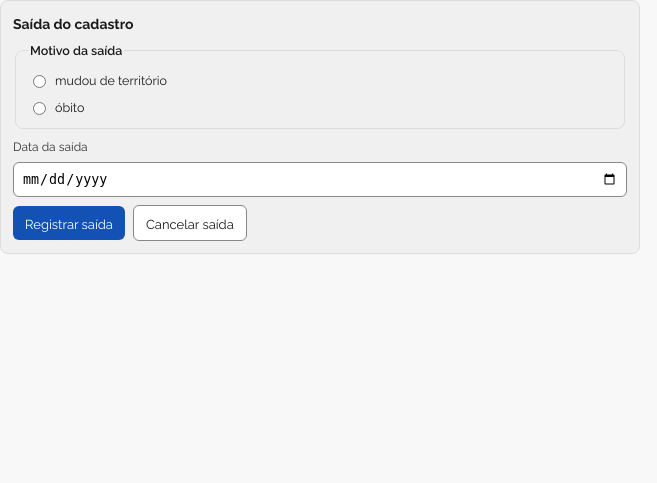
Test: ExitForm › óbito antes do nascimento é recusado na tela
Click the radio button labelled "óbito" at (40, 108), box [33,102,46,115]
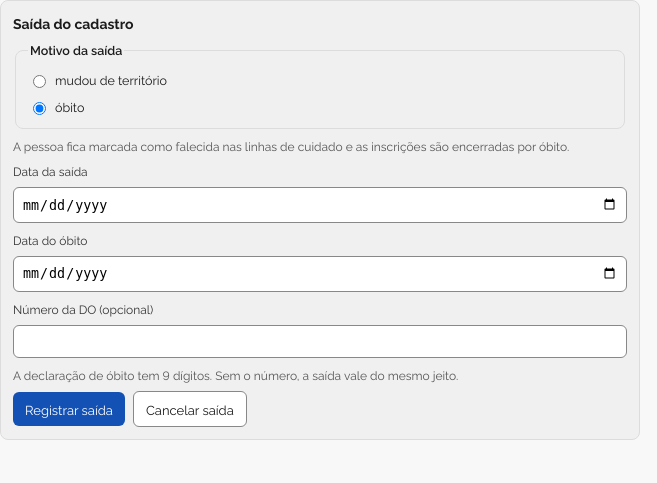
Type "2026-10-20" into the date field labelled "Data da saída" at (320, 205), box [13,188,627,223]
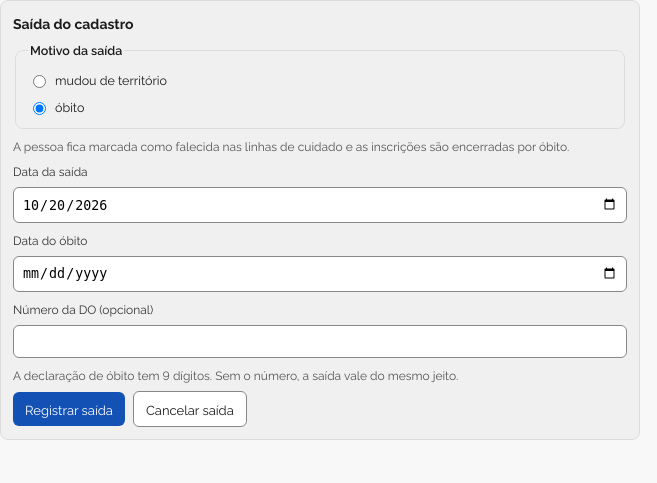
Type "1960-01-01" into the date field labelled "Data do óbito" at (320, 274), box [13,256,627,292]
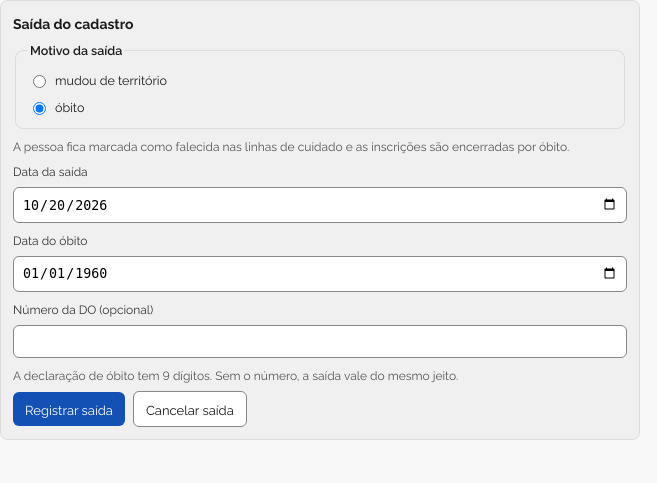
Click the button "Registrar saída" at (69, 409), box [13,392,125,426]
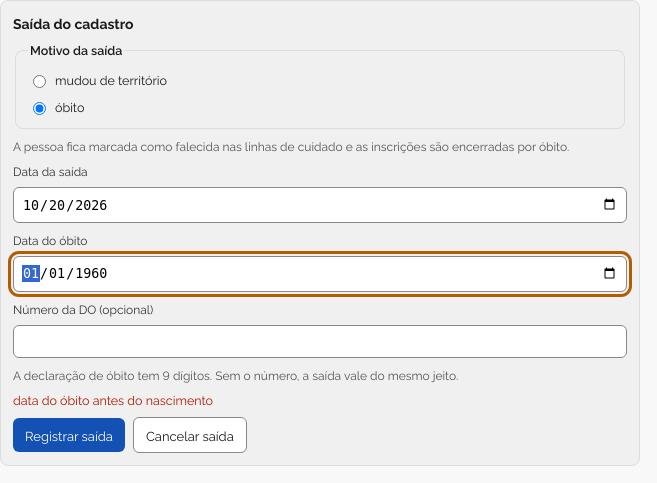
Result: the message reads "data do óbito antes do nascimento" at [13,391,213,408]
